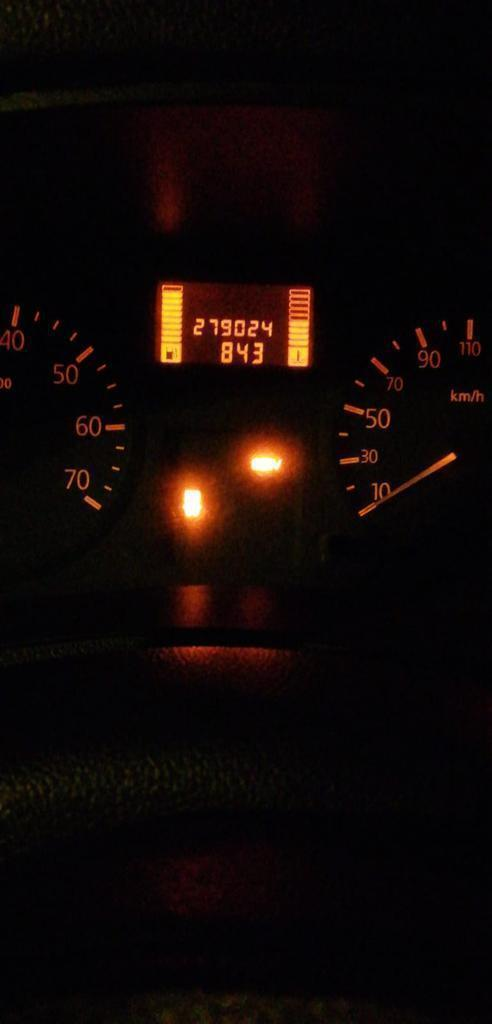0: (233, 319, 245, 337)
2: (247, 320, 259, 337), (193, 318, 204, 336)
3: (251, 341, 263, 365)
4: (235, 341, 248, 363), (260, 320, 272, 337)
7: (208, 318, 218, 335)
8: (220, 341, 233, 363)
9: (220, 319, 231, 336)
odometer: (150, 276, 313, 369)
